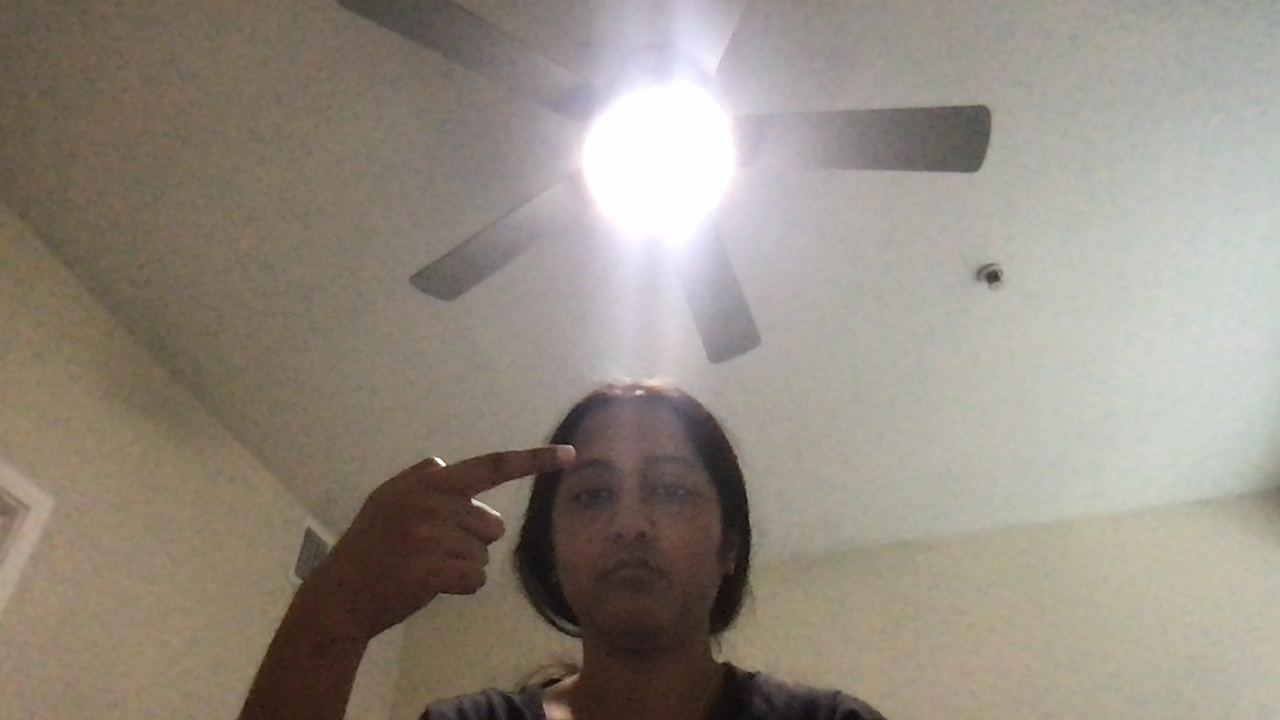g: (376, 445, 579, 617)
